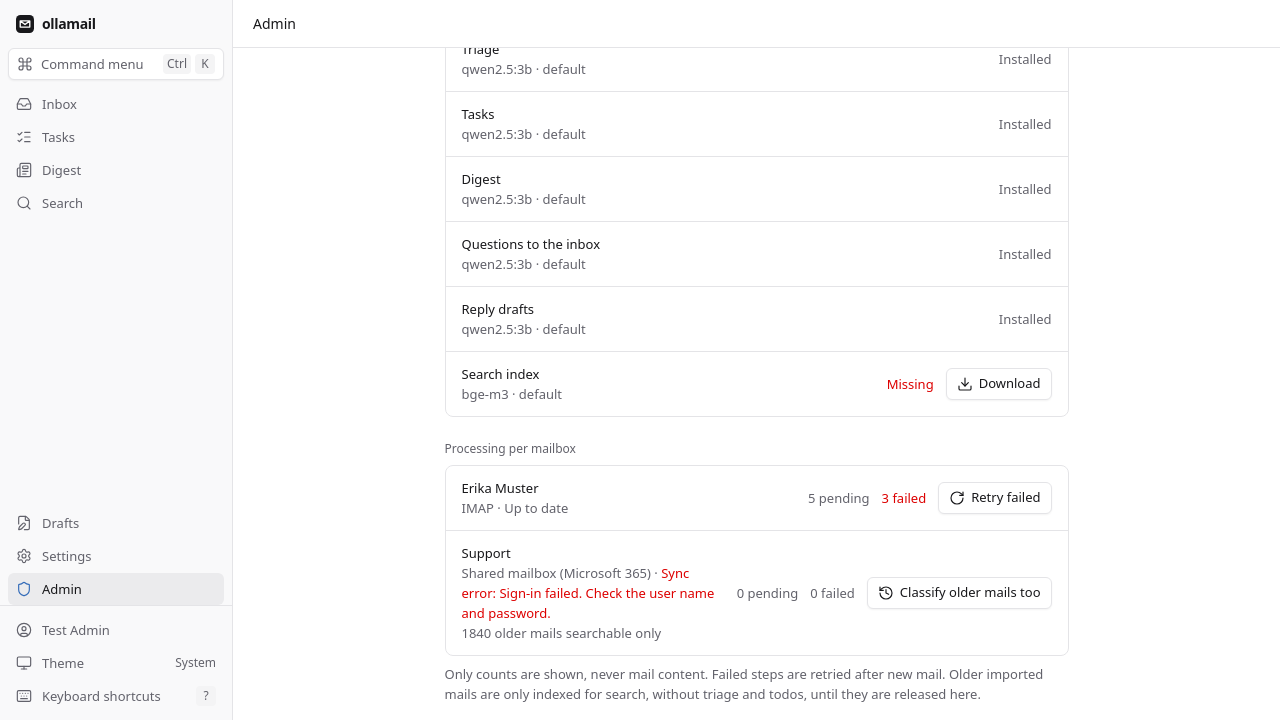
Test case: admin overview › downloads a missing model
The width and height of the screenshot is (1280, 720).
(page scrolled)
Expected: the heading "Admin" is shown, 253,14 -> 296,34
Click the button "Download" at (999, 384), box 946,368 -> 1052,400
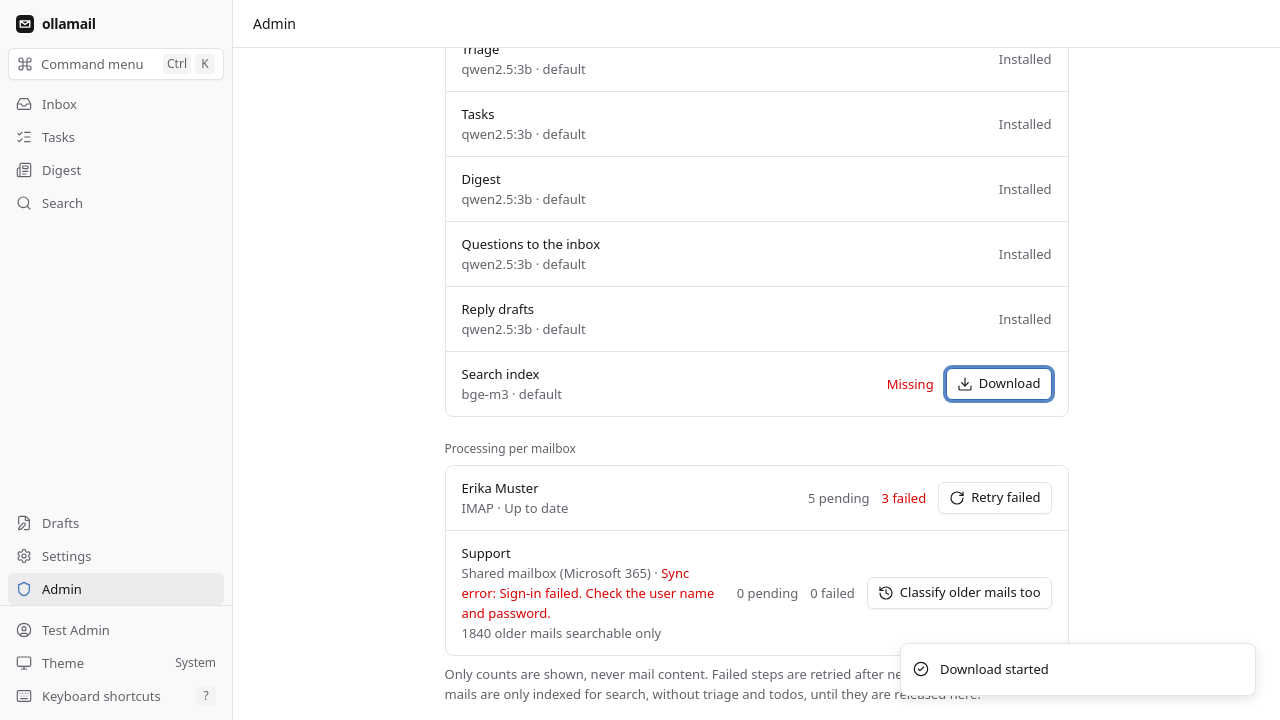
Result: the text "Download started" is shown at 940,660 -> 1049,679
